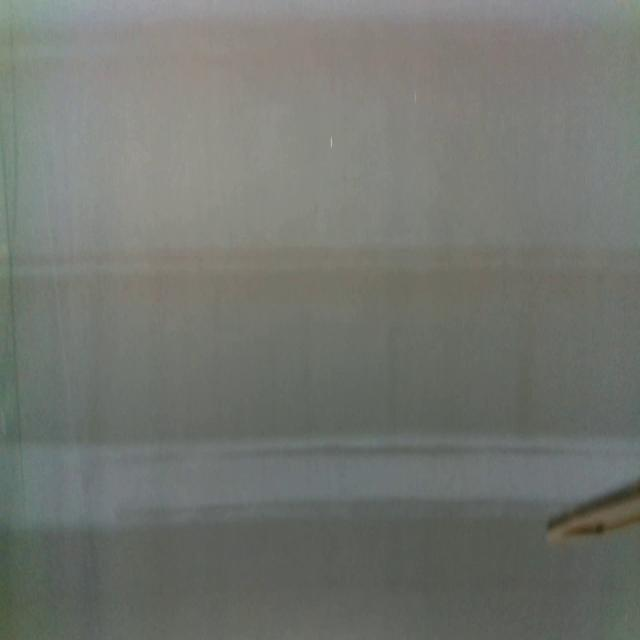color bleeding: (1, 235, 640, 469), (0, 4, 640, 118), (1, 493, 549, 612)
crease: (0, 19, 27, 496)
